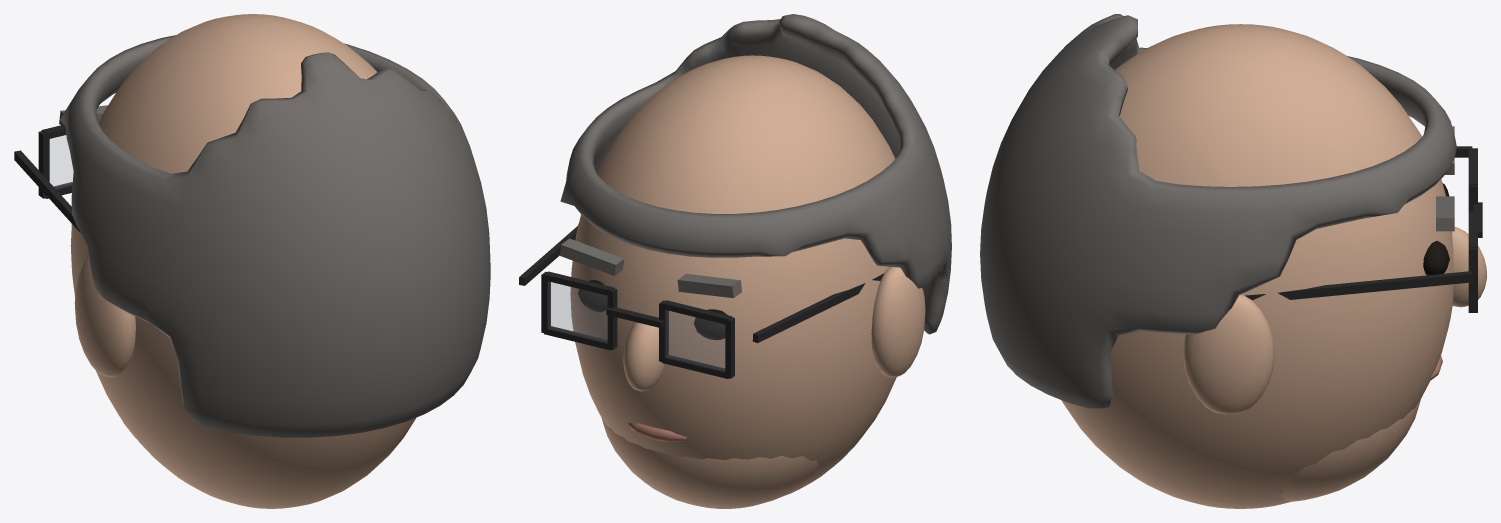
Rendered from giam_doc_dau.glb.
3 renders of one model, left to right at view 1: azimuth 30°, elevation 25°; view 2: azimuth 150°, elevation 25°; view 3: azimuth 270°, elevation 25°, orthographic. The views are drawn at different scales.
Visible parts, largest first — view 1: giam_doc_dau; view 2: giam_doc_dau; view 3: giam_doc_dau.
Part boxes in pixels (bbox=[...]): giam_doc_dau: bbox=[14, 14, 490, 508]; giam_doc_dau: bbox=[519, 14, 951, 508]; giam_doc_dau: bbox=[980, 14, 1486, 508].
Size of the model in its own units: 0.1815 by 0.2269 by 0.218.
